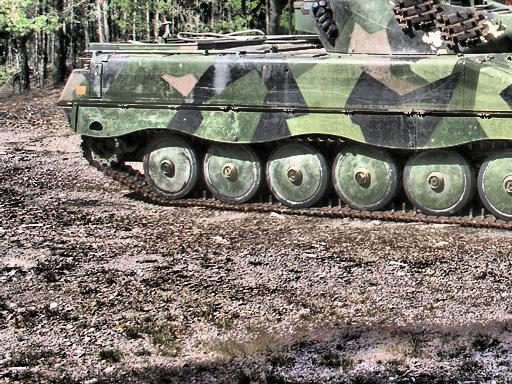tanks: (59, 1, 512, 226)
